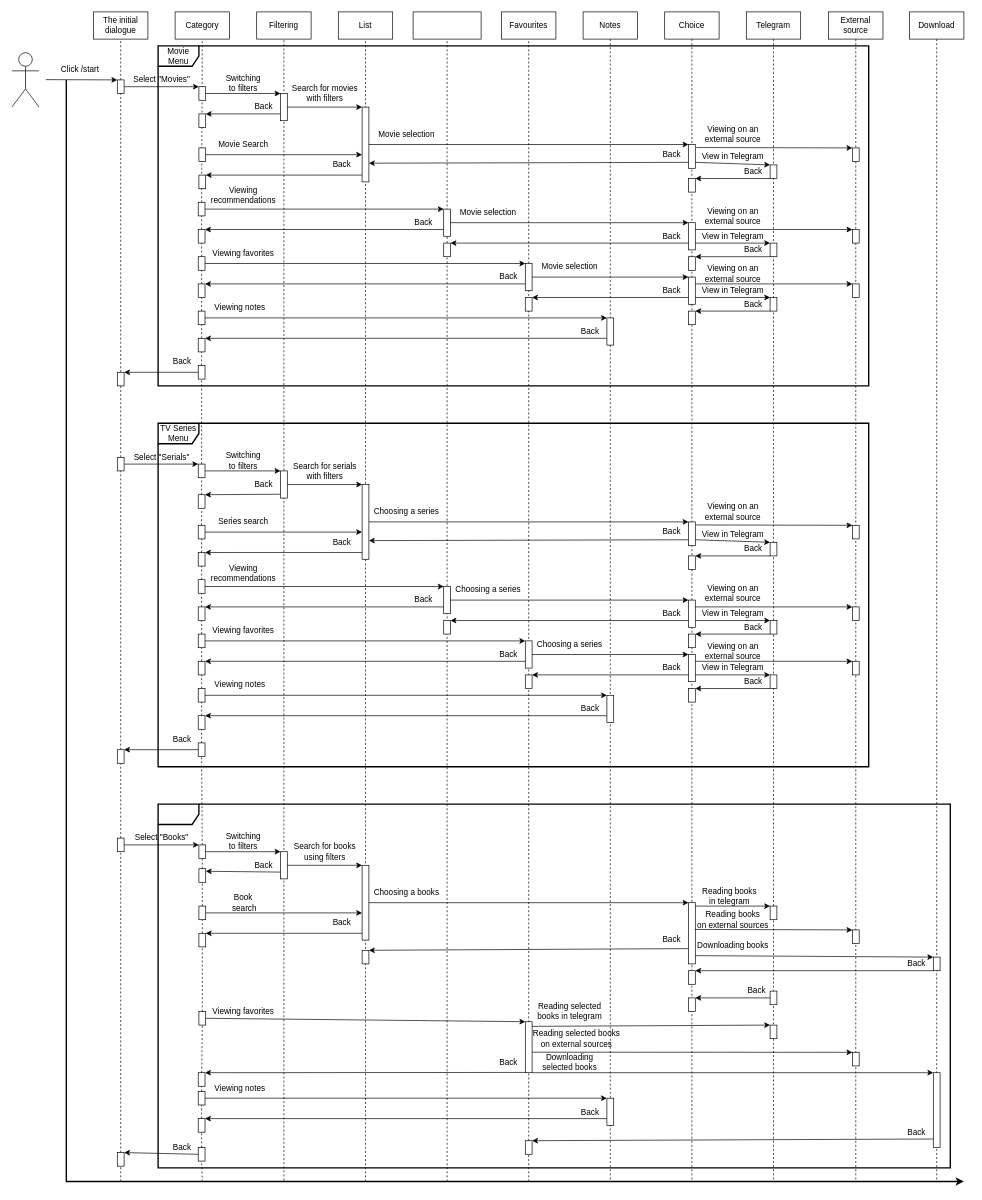
The diagram is 982 pixels wide and 1200 high, and some of its shapes have lost their labels. The box of each missing label's shape, as (x1, y1, x2, y2) in pixels:
Book Menu: (157, 803, 951, 1168)
Recommendations: (412, 11, 481, 39)
User: (11, 52, 39, 107)
